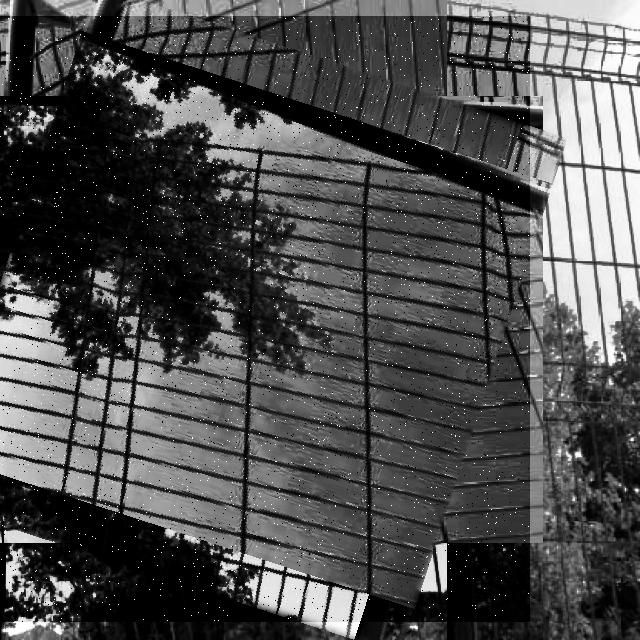anomaly-fence: (0, 16, 530, 622)
